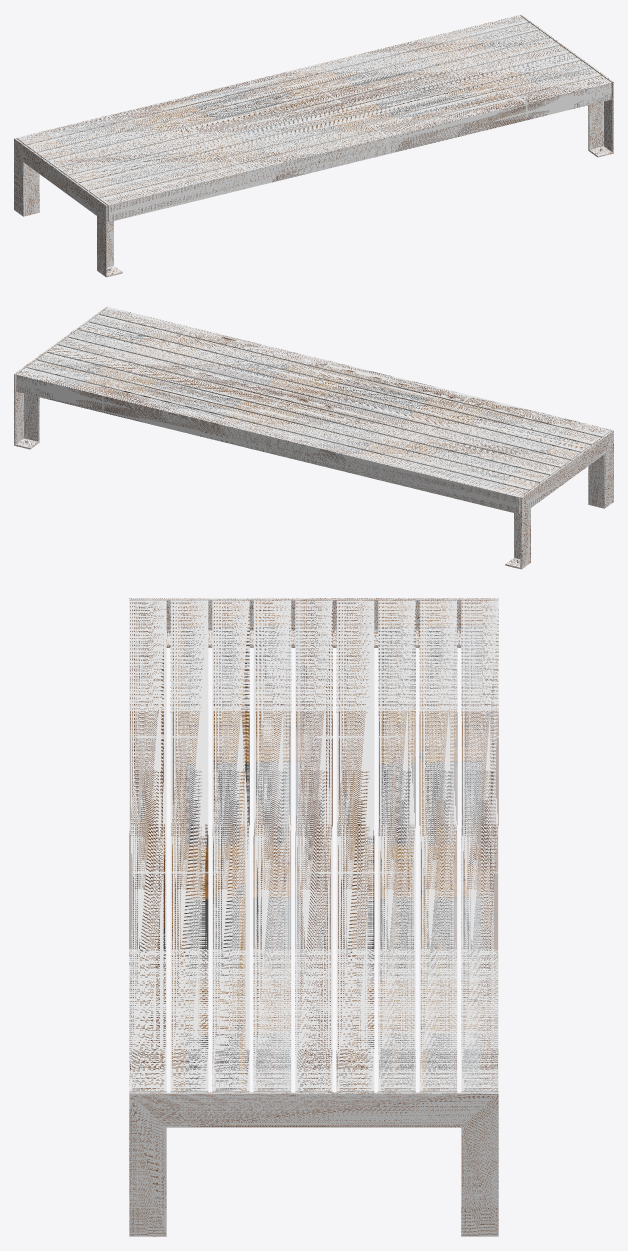
The picture shows the model from 3 angles, top to bottom: view 1: azimuth 30°, elevation 25°; view 2: azimuth 150°, elevation 25°; view 3: azimuth 270°, elevation 25°; orthographic projection. The views are drawn at different scales.
Parts seen in each view (by area): view 1: mesh9_mesh9-geometry, mesh10_mesh10-geometry, mesh13_mesh13-geometry, mesh8_mesh8-geometry, mesh14_mesh14-geometry, mesh7_mesh7-geometry, mesh5_mesh5-geometry, mesh12_mesh12-geometry, mesh11_mesh11-geometry, mesh3_mesh3-geometry, mesh17_mesh17-geometry; view 2: mesh10_mesh10-geometry, mesh9_mesh9-geometry, mesh13_mesh13-geometry, mesh5_mesh5-geometry, mesh7_mesh7-geometry, mesh14_mesh14-geometry, mesh8_mesh8-geometry, mesh11_mesh11-geometry, mesh12_mesh12-geometry, mesh3_mesh3-geometry, mesh17_mesh17-geometry; view 3: mesh17_mesh17-geometry, mesh5_mesh5-geometry, mesh7_mesh7-geometry, mesh8_mesh8-geometry, mesh14_mesh14-geometry, mesh9_mesh9-geometry, mesh10_mesh10-geometry, mesh11_mesh11-geometry, mesh12_mesh12-geometry, mesh13_mesh13-geometry, mesh3_mesh3-geometry.
Part boxes in pixels (left/top/right/bottom): mesh9_mesh9-geometry: left=99, top=76, right=611, bottom=222; mesh10_mesh10-geometry: left=16, top=15, right=528, bottom=145; mesh13_mesh13-geometry: left=57, top=45, right=570, bottom=176; mesh8_mesh8-geometry: left=89, top=68, right=601, bottom=198; mesh14_mesh14-geometry: left=68, top=53, right=580, bottom=183; mesh7_mesh7-geometry: left=47, top=38, right=559, bottom=168; mesh5_mesh5-geometry: left=26, top=22, right=538, bottom=153; mesh12_mesh12-geometry: left=37, top=30, right=549, bottom=160; mesh11_mesh11-geometry: left=78, top=60, right=590, bottom=191; mesh3_mesh3-geometry: left=14, top=138, right=122, bottom=277; mesh17_mesh17-geometry: left=520, top=14, right=613, bottom=157; mesh10_mesh10-geometry: left=16, top=368, right=528, bottom=514; mesh9_mesh9-geometry: left=99, top=307, right=611, bottom=437; mesh13_mesh13-geometry: left=57, top=337, right=570, bottom=468; mesh5_mesh5-geometry: left=26, top=360, right=538, bottom=490; mesh7_mesh7-geometry: left=47, top=345, right=559, bottom=475; mesh14_mesh14-geometry: left=68, top=330, right=580, bottom=460; mesh8_mesh8-geometry: left=89, top=314, right=601, bottom=445; mesh11_mesh11-geometry: left=78, top=322, right=590, bottom=452; mesh12_mesh12-geometry: left=37, top=352, right=549, bottom=483; mesh3_mesh3-geometry: left=505, top=430, right=613, bottom=569; mesh17_mesh17-geometry: left=14, top=306, right=107, bottom=449; mesh17_mesh17-geometry: left=129, top=1092, right=498, bottom=1236; mesh5_mesh5-geometry: left=419, top=600, right=457, bottom=1092; mesh7_mesh7-geometry: left=336, top=600, right=374, bottom=1092; mesh8_mesh8-geometry: left=170, top=600, right=208, bottom=1092; mesh14_mesh14-geometry: left=253, top=600, right=291, bottom=1092; mesh9_mesh9-geometry: left=129, top=600, right=166, bottom=1092; mesh10_mesh10-geometry: left=461, top=600, right=498, bottom=1092; mesh11_mesh11-geometry: left=212, top=600, right=249, bottom=1092; mesh12_mesh12-geometry: left=378, top=600, right=415, bottom=1092; mesh13_mesh13-geometry: left=295, top=600, right=332, bottom=1092; mesh3_mesh3-geometry: left=129, top=598, right=498, bottom=647.
Bounding box in the file's own units: 0.9457 × 0.1296 × 0.298.
